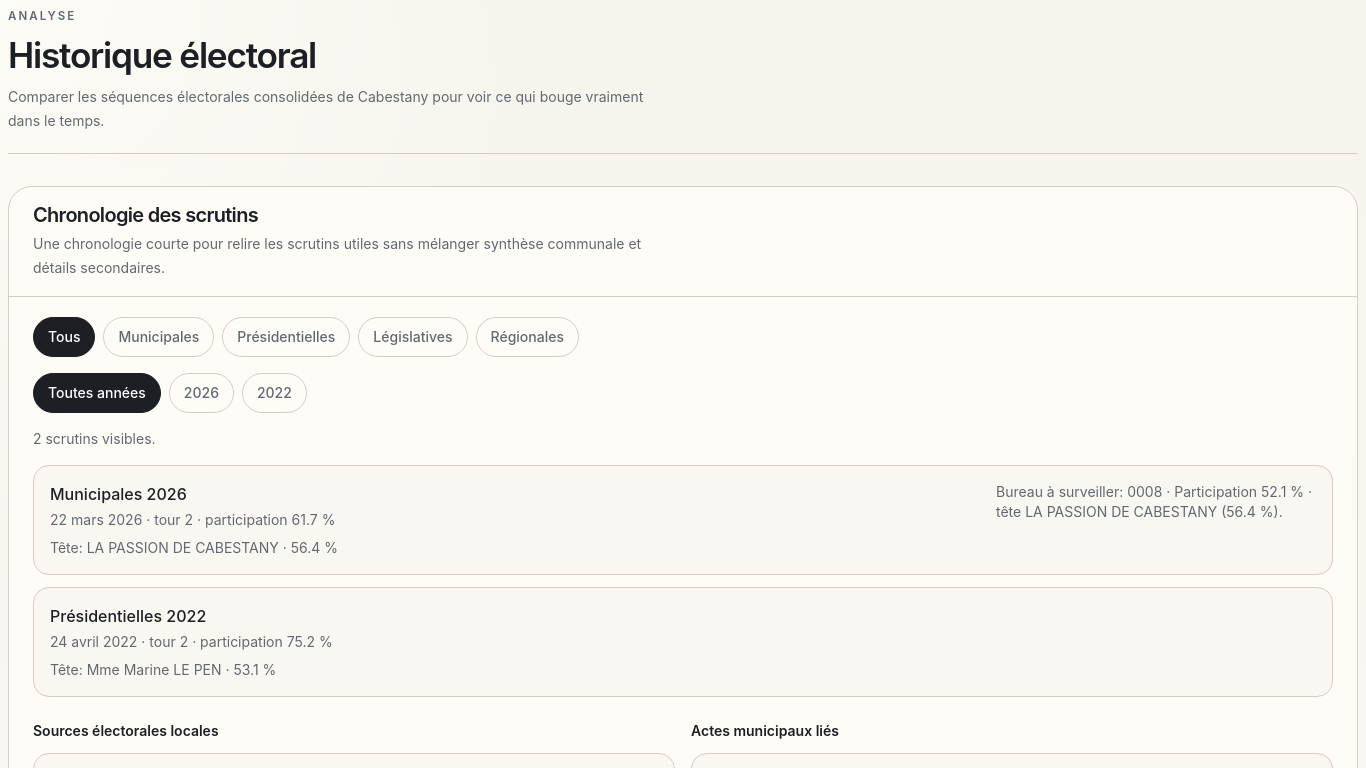
ElectoralHistoryPage › affiche l'historique filtrable des scrutins consolidés
The width and height of the screenshot is (1366, 768).
expect the heading "Historique électoral" is shown: met, box [8, 34, 316, 76]
expect the heading "Chronologie des scrutins" is shown: met, box [33, 203, 258, 227]
Step 1. Click the button "2022" → (274, 393), box [242, 373, 307, 413]
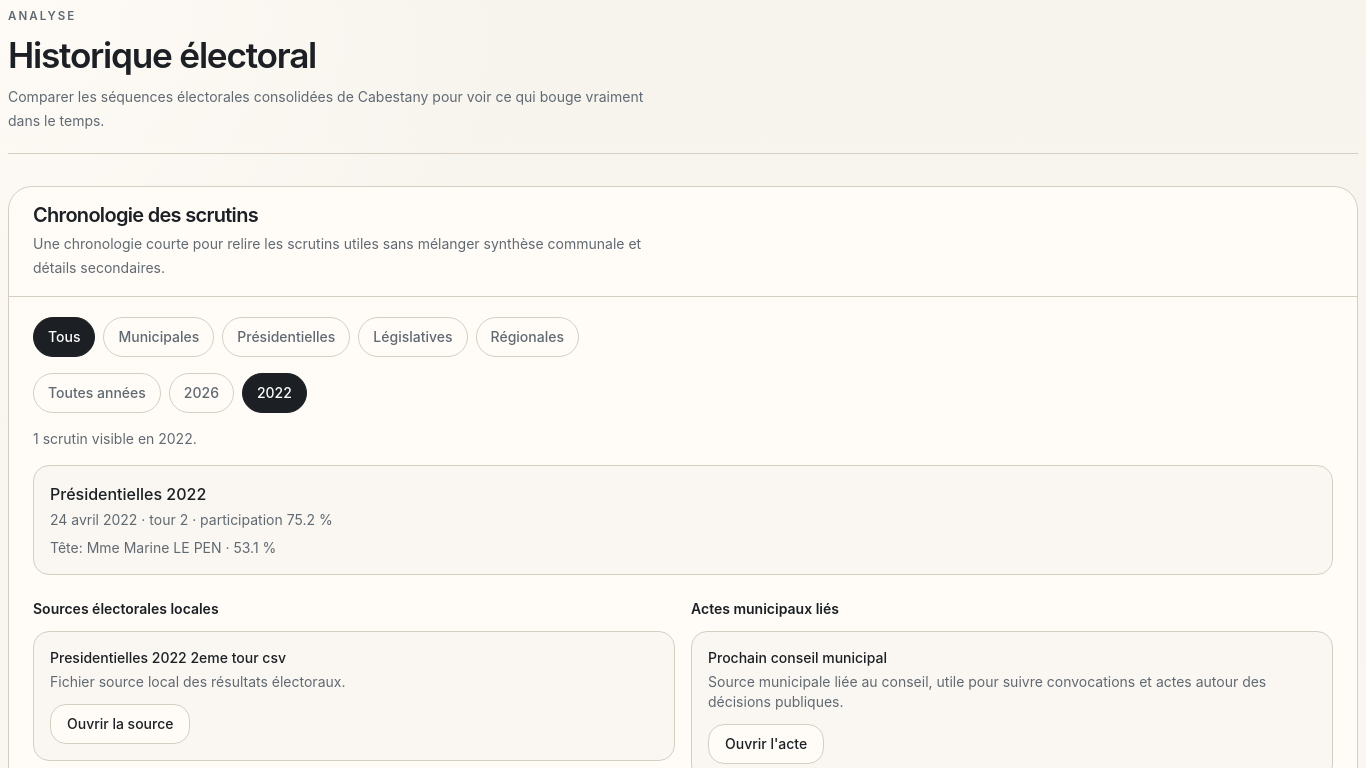
expect the text "Tête: Mme Marine LE PEN · 53.1 %" is shown: met, box [50, 539, 276, 556]
expect the text "1 scrutin visible en 2022." is shown: met, box [33, 430, 197, 447]
expect the text "LA PASSION DE CABESTANY" is gone: met
